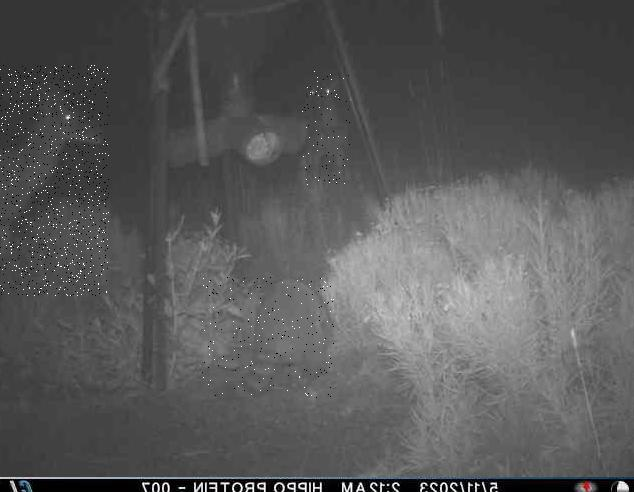Deer: (0, 65, 109, 296), (302, 72, 350, 187)
Raccoon: (201, 276, 333, 398)
